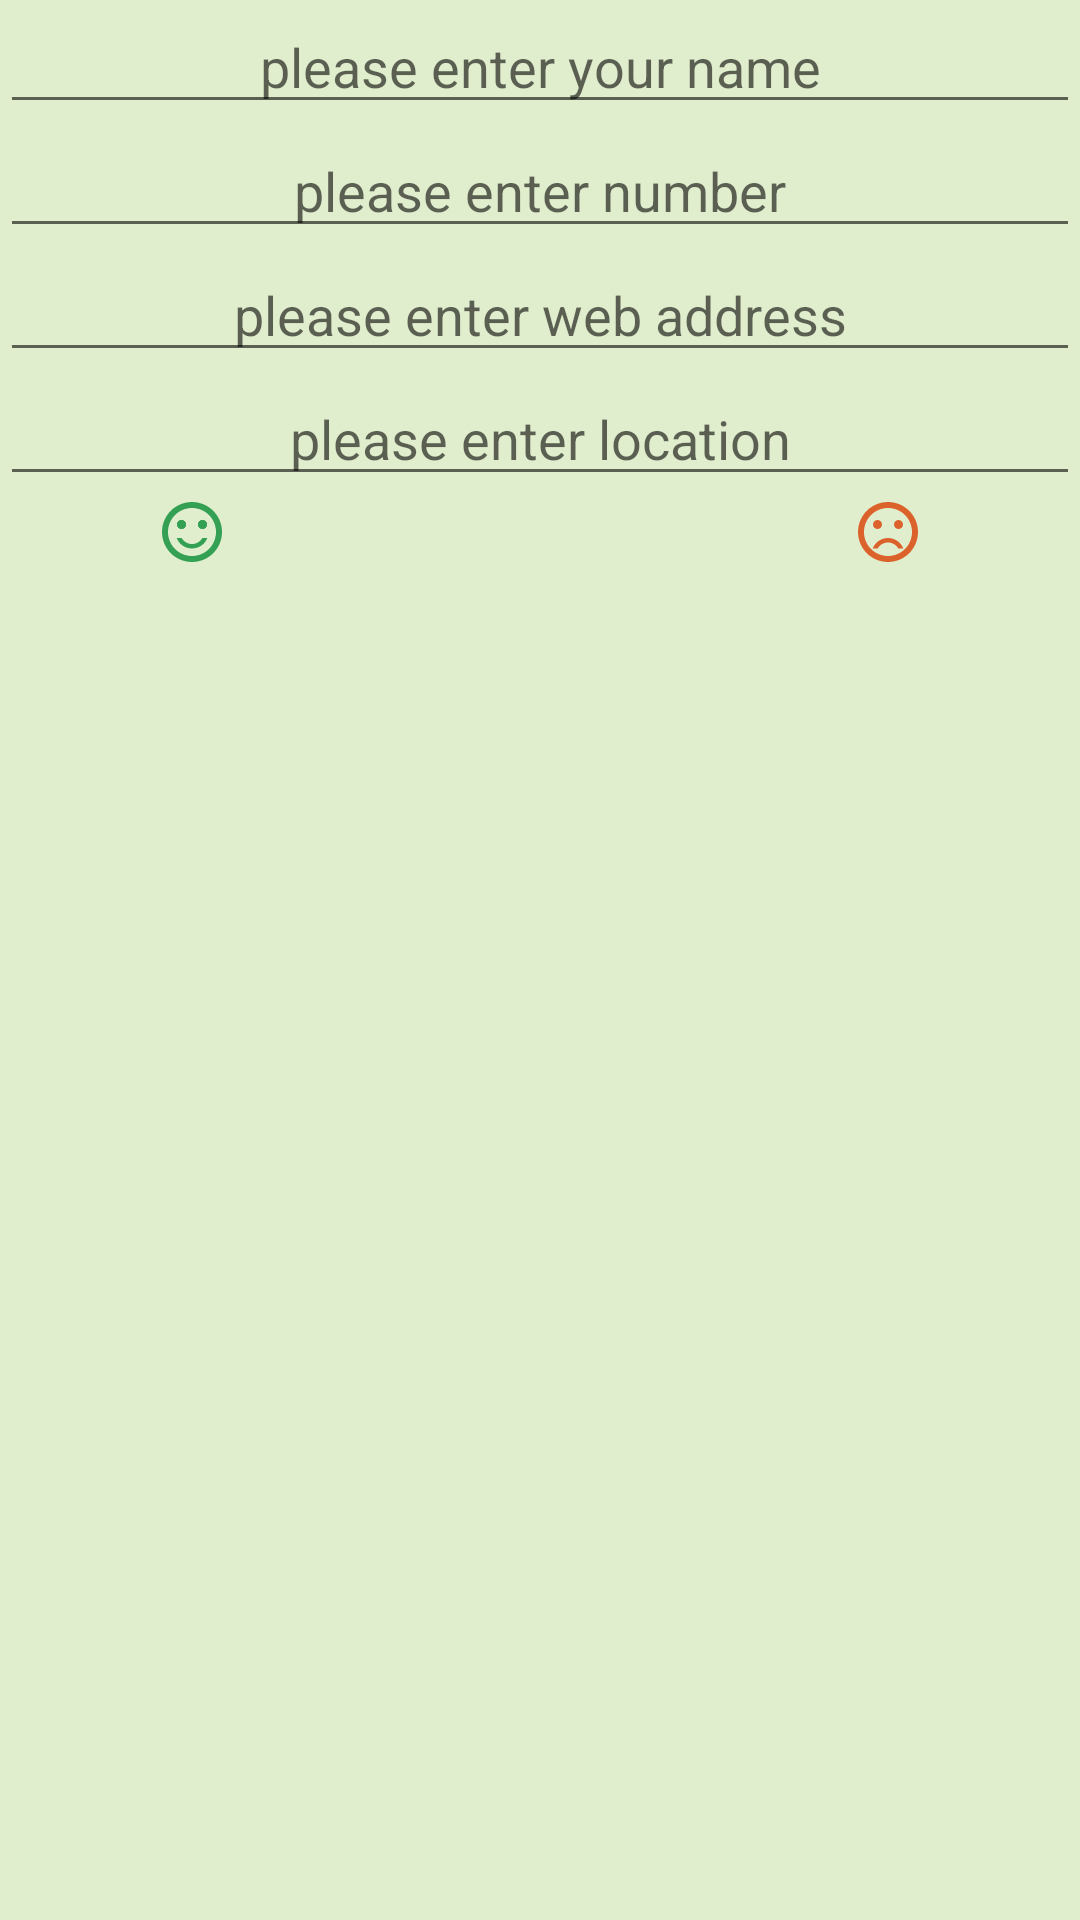

Screen size 1080px×1920px. Icon name, then its center in pixels as (x,y):
sentiment satisfied: (192,532)
sentiment very dissatisfied: (888,532)
